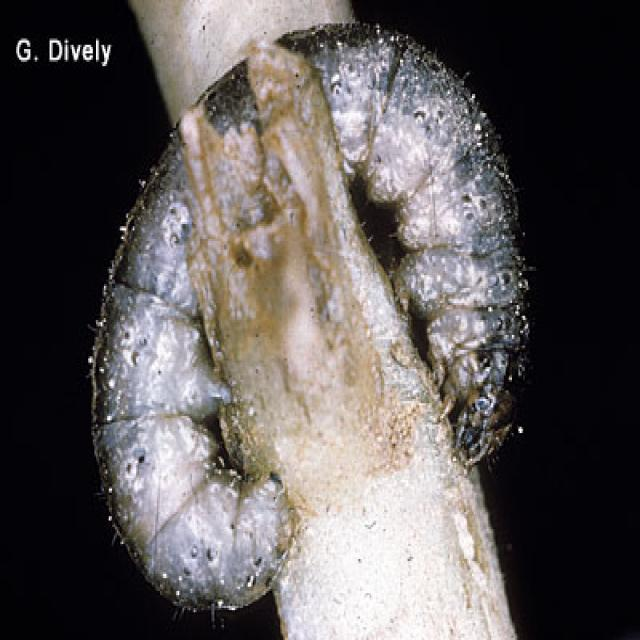Cutworm: (77, 20, 536, 611)
